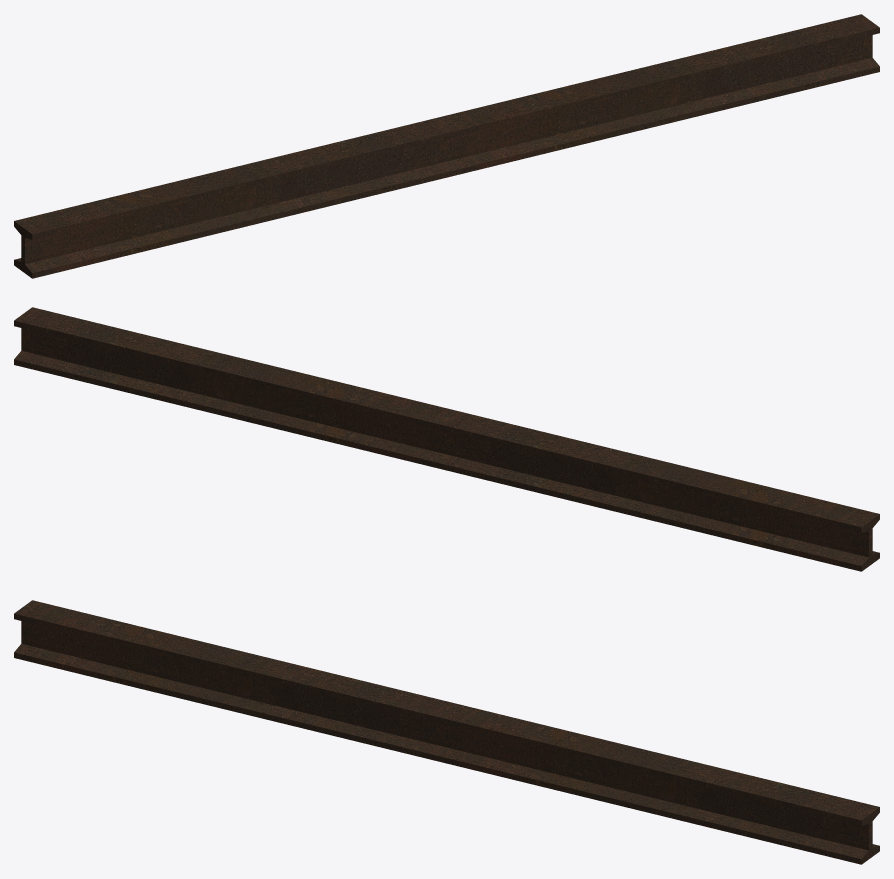
The model's file is beam_hc_horizonatal_1.glb.
3 views of the same model, one above another, from view 1: azimuth 30°, elevation 25°; view 2: azimuth 150°, elevation 25°; view 3: azimuth 330°, elevation 25° (orthographic).
Visible parts, largest first — view 1: beam_hc_horizonatal_1; view 2: beam_hc_horizonatal_1; view 3: beam_hc_horizonatal_1.
Part boxes in pixels (box(x1,y1,x2,y2)): beam_hc_horizonatal_1: box(14, 14, 879, 278); beam_hc_horizonatal_1: box(14, 307, 879, 571); beam_hc_horizonatal_1: box(14, 600, 879, 864).
Bounding box in the file's own units: 8 × 0.4 × 0.3.
1 material, 1 textured.
